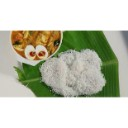idiyappam: (75, 50, 107, 93), (43, 58, 67, 90)
